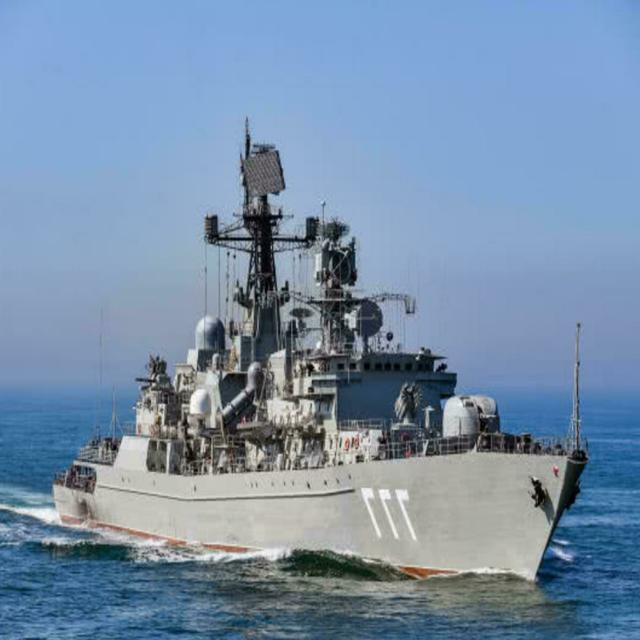navalvessels: (20, 118, 624, 594)
